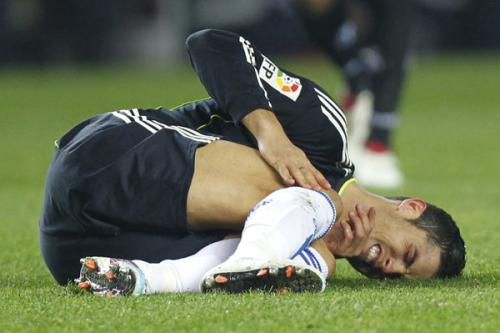fall: (24, 5, 471, 318)
